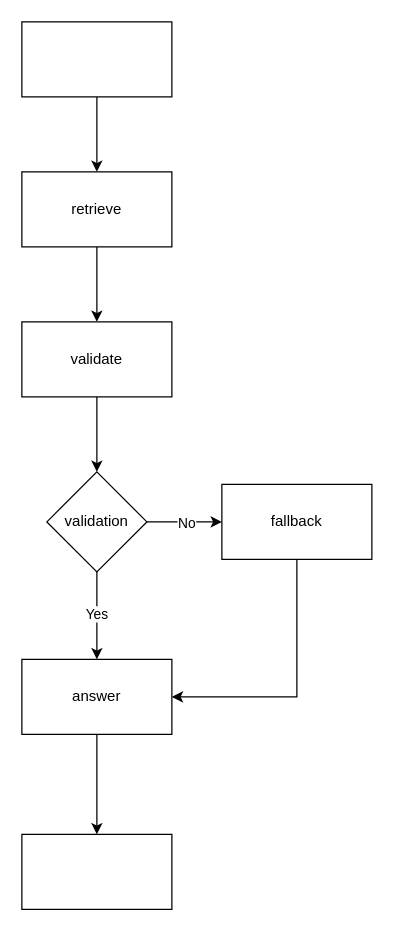
Some shapes in this 394 by 931 pixel diagram are drawn without their labels. The centre of each missing label's shape, as x and y in pixels:
__end__: point (96, 871)
__Start__: point (96, 59)
